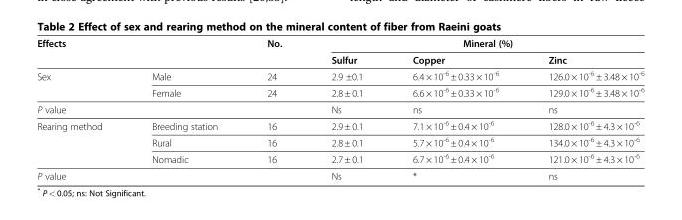table: (36, 37, 643, 181)
table column: (387, 37, 522, 181), (522, 37, 643, 181), (126, 37, 241, 181), (36, 37, 126, 181), (305, 37, 387, 181), (241, 37, 305, 181)
table column header: (36, 37, 643, 67)
table row: (36, 149, 643, 167), (36, 83, 643, 100), (36, 116, 643, 133), (36, 51, 643, 67), (36, 67, 643, 83), (36, 100, 643, 116), (36, 133, 643, 149), (36, 37, 643, 51), (36, 167, 643, 181)
table spanning cell: (305, 37, 643, 51), (36, 116, 126, 167), (36, 100, 241, 116), (36, 67, 126, 100), (36, 37, 241, 51), (36, 167, 241, 181), (241, 37, 305, 67)
